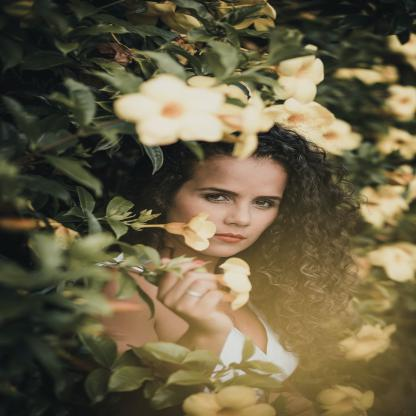Eye: (251, 198, 275, 210), (204, 193, 232, 203)
Mouth: (213, 232, 247, 243)
Nose: (224, 204, 253, 227)
